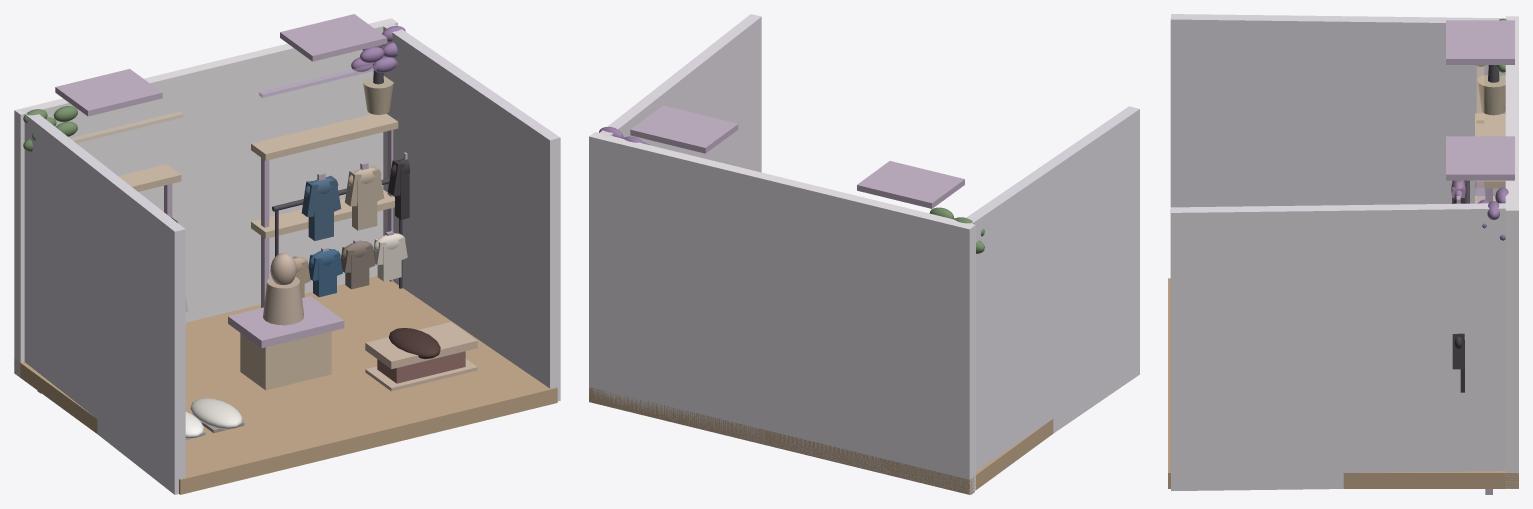
Rendered from swyft-showroom.glb.
3 renders of one model, left to right at view 1: azimuth 30°, elevation 25°; view 2: azimuth 150°, elevation 25°; view 3: azimuth 270°, elevation 25°, orthographic. The views are drawn at different scales.
Parts seen in each view (by area): view 1: Back wall, Left wing, Right wing, Platform · oak, Display pedestal, Boot display, Right upper shelf, Lighting rail · lilac, Lighting rail · warm, Styled mannequin, Lavender plant, Right lower shelf (+11 smaller); view 2: Back wall, Left wing, Right wing, Platform · oak, Lighting rail · lilac, Lighting rail · warm; view 3: Right wing, Left wing, Back wall, Platform · oak, Lighting rail · warm, Lighting rail · lilac, Olive floor plant, Left upper shelf, Black trouser, Lavender plant.
Part boxes in pixels (box(x1,y1,x2,y2)): Back wall: box(14, 18, 397, 377); Left wing: box(20, 107, 185, 494); Right wing: box(380, 21, 560, 401); Platform · oak: box(14, 276, 557, 494); Display pedestal: box(228, 296, 344, 390); Boot display: box(365, 322, 477, 391); Right upper shelf: box(251, 113, 398, 260); Lighting rail · lilac: box(259, 14, 397, 97); Lighting rail · warm: box(55, 69, 183, 143); Styled mannequin: box(263, 253, 303, 325); Lavender plant: box(351, 26, 405, 114); Right lower shelf: box(251, 189, 394, 307); Back wall: box(589, 132, 975, 494); Left wing: box(961, 106, 1139, 470); Right wing: box(599, 14, 761, 172); Platform · oak: box(589, 387, 1053, 494); Lighting rail · lilac: box(630, 105, 738, 153); Lighting rail · warm: box(857, 161, 964, 208); Right wing: box(1170, 203, 1515, 491); Left wing: box(1170, 14, 1516, 207); Back wall: box(1505, 16, 1518, 488); Platform · oak: box(1168, 278, 1518, 488); Lighting rail · warm: box(1446, 20, 1514, 123); Lighting rail · lilac: box(1446, 136, 1514, 203); Olive floor plant: box(1476, 18, 1506, 115); Left upper shelf: box(1475, 113, 1505, 202); Black trouser: box(1452, 333, 1464, 392); Lavender plant: box(1478, 187, 1508, 240).
Size of the model in its own units: 4.3 by 3.08 by 3.2.
